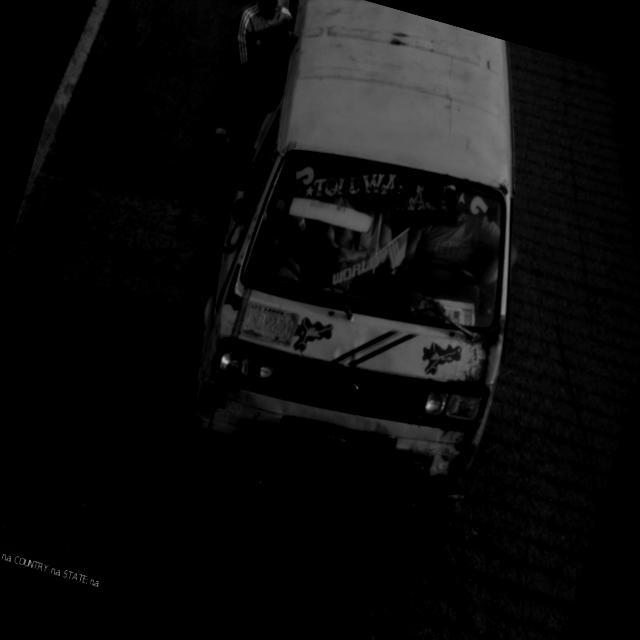windshield: (238, 145, 514, 336)
